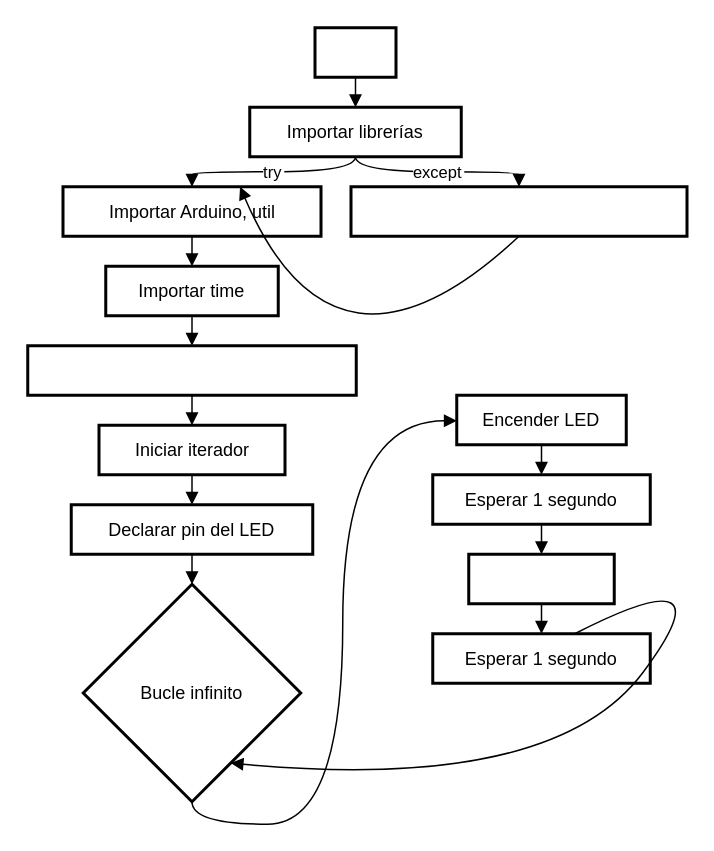
This 714x851 diagram has some shape labels left out. The shapes that lost their labels are listed below. From the top down, each one's centre as x and y in pixels, then its label:
At [355,52]: "Inicio".
At [518,210]: "Instalar e importar pyfirmata".
At [191,370]: "Conectar a Arduino en COM6".
At [540,578]: "Apagar LED".
